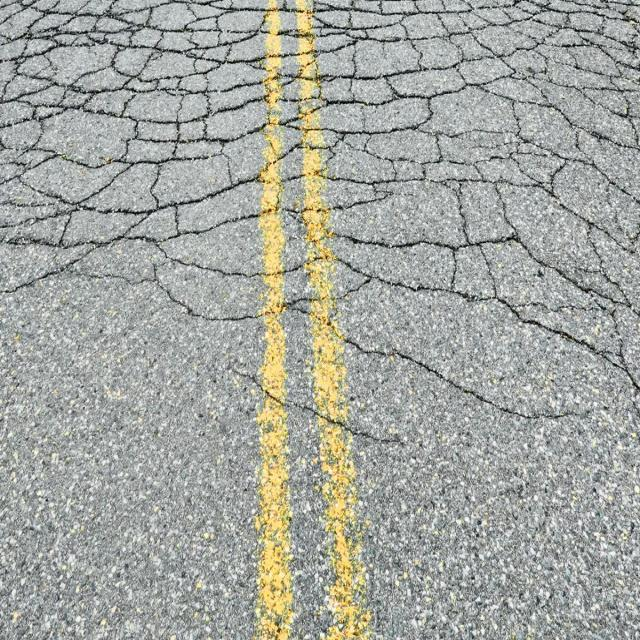Drain Hole: (21, 4, 633, 330)
